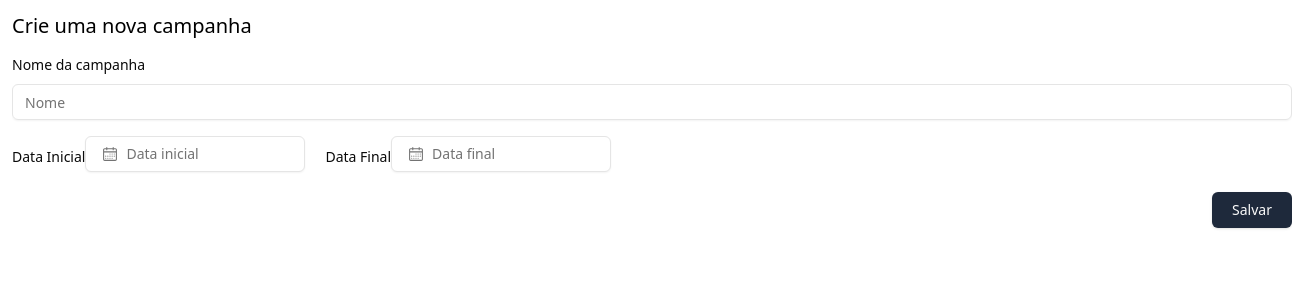
Test: CreateUpdateCampainForm › displays validation errors when form is submitted with empty fields
The image size is (1304, 296).
Step 1. Click the button "Salvar" → coordinates (1252, 210), box [1212,192,1292,228]
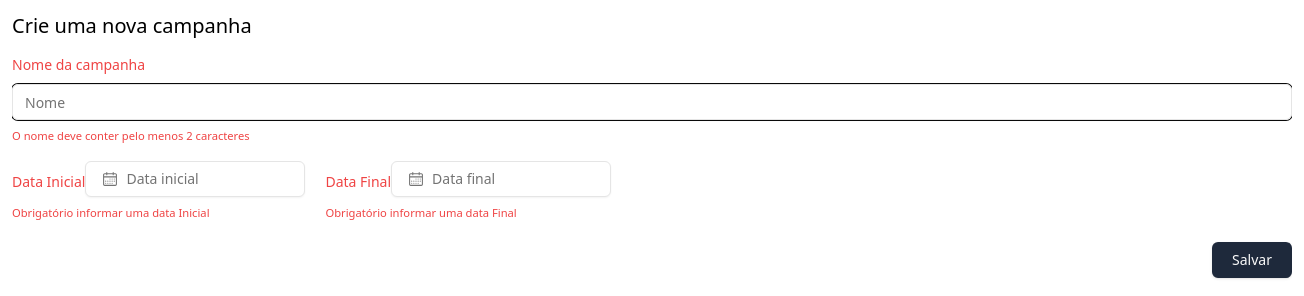
Expected: the text "O nome deve conter pelo menos 2 caracteres" is shown, [12,128,250,143]
Expected: the text "Obrigatório informar uma data Inicial" is shown, [12,205,210,220]
Expected: the text "Obrigatório informar uma data Final" is shown, [325,205,517,220]
